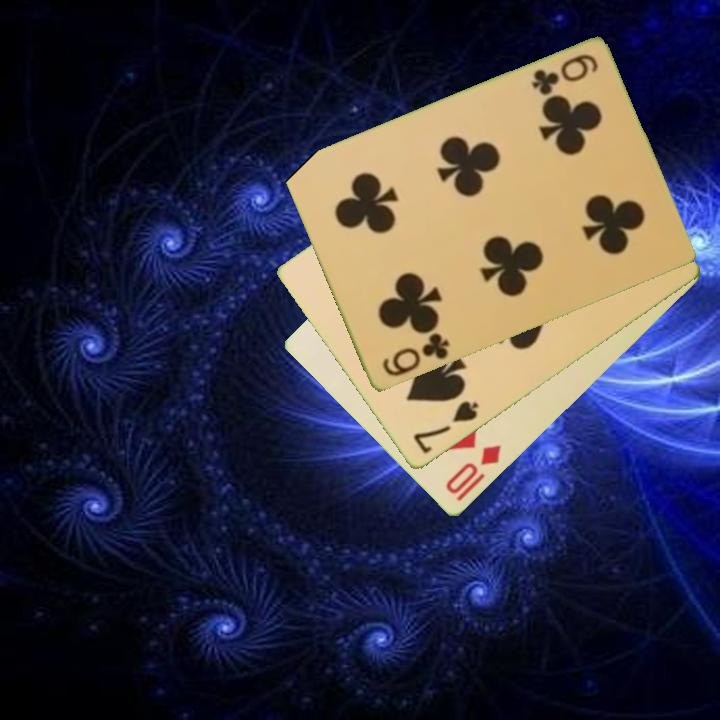10d: (442, 442, 505, 498)
6c: (378, 330, 452, 380), (527, 51, 601, 98)
7s: (409, 397, 482, 458)
